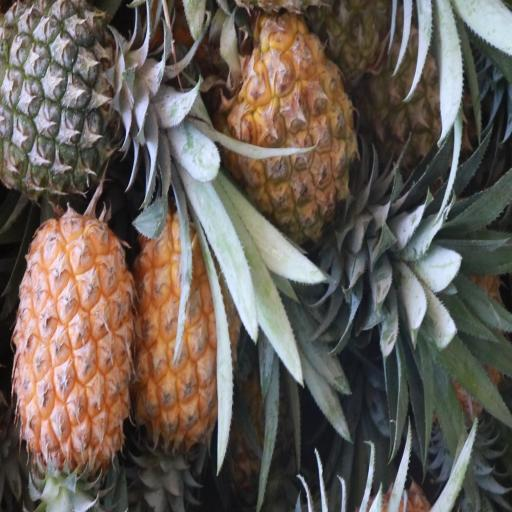------------------------------: (359, 20, 460, 180)
Pineapple - v8 v1: (17, 214, 132, 475), (228, 14, 352, 236), (130, 215, 229, 446)
